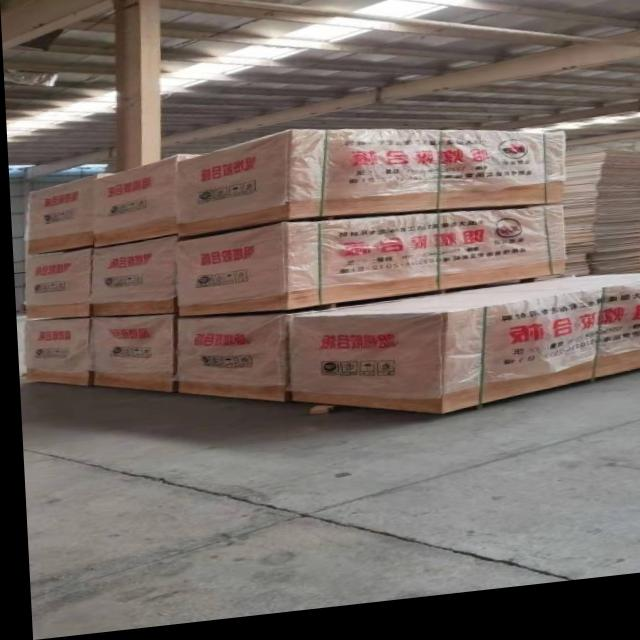box: (287, 288, 640, 423), (174, 136, 564, 243), (174, 214, 563, 321), (170, 319, 287, 408), (93, 158, 194, 250), (85, 317, 175, 397), (86, 238, 175, 318), (21, 176, 97, 256), (22, 250, 92, 319), (20, 318, 88, 385)
